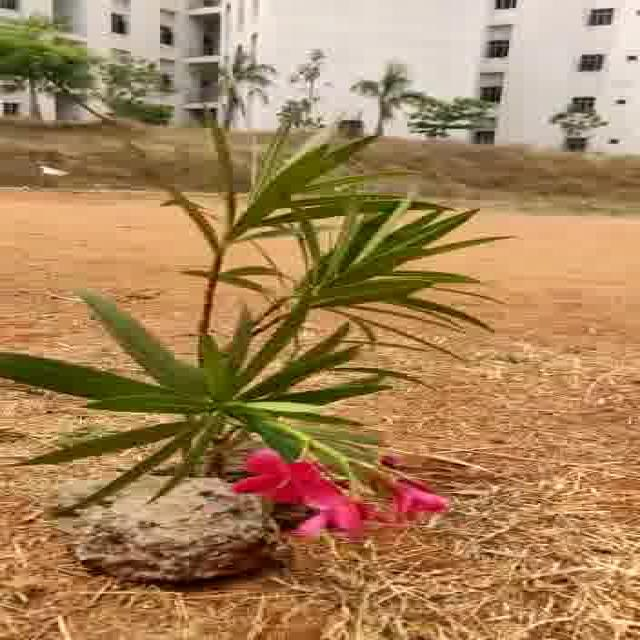OLEANDER: (0, 136, 479, 555)
